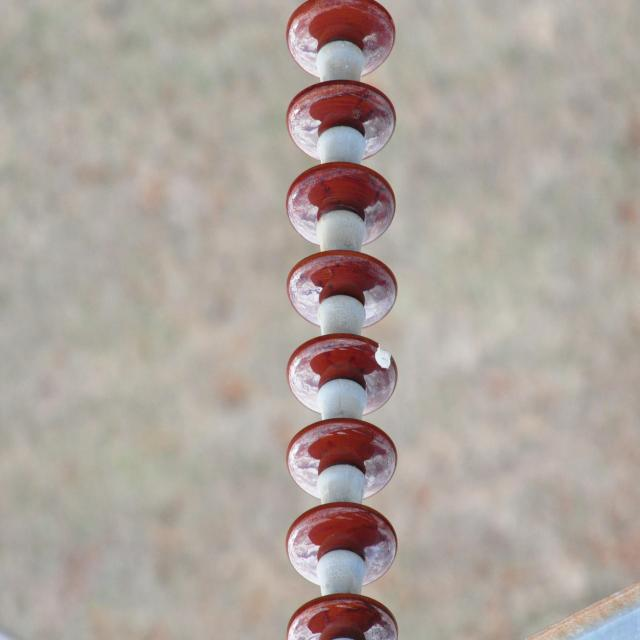broken: (373, 342, 395, 372)
insulator: (283, 2, 400, 640)
